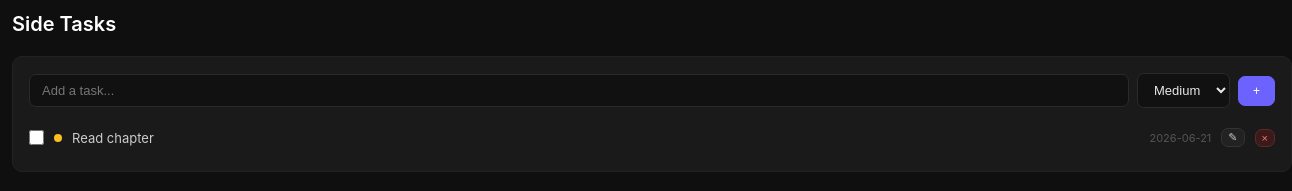
Test: Tasks — Edit task text › clicking ✎ button shows input with current task text
What coordinates should you click on to do the following:
click the button "✎"
I would click on:
 (1233, 138)
Its box is [1221, 128, 1244, 147].
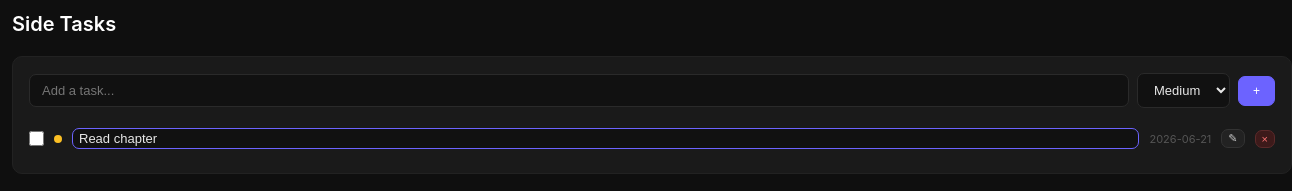
Expected: the field showing "Read chapter" is shown, [72, 128, 1140, 149]
